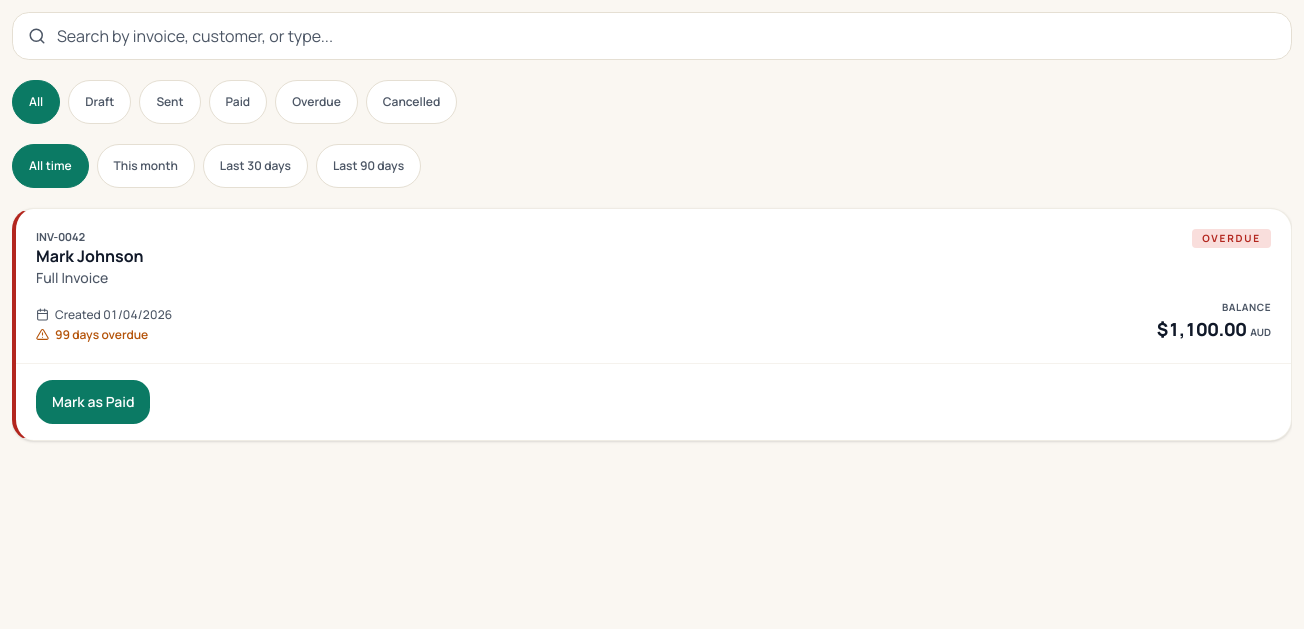
Test case: invoice action error recovery › shows returned payment errors and clears the table pending state
Click the button "Mark as Paid" at [93, 402], box [36,380,150,424]
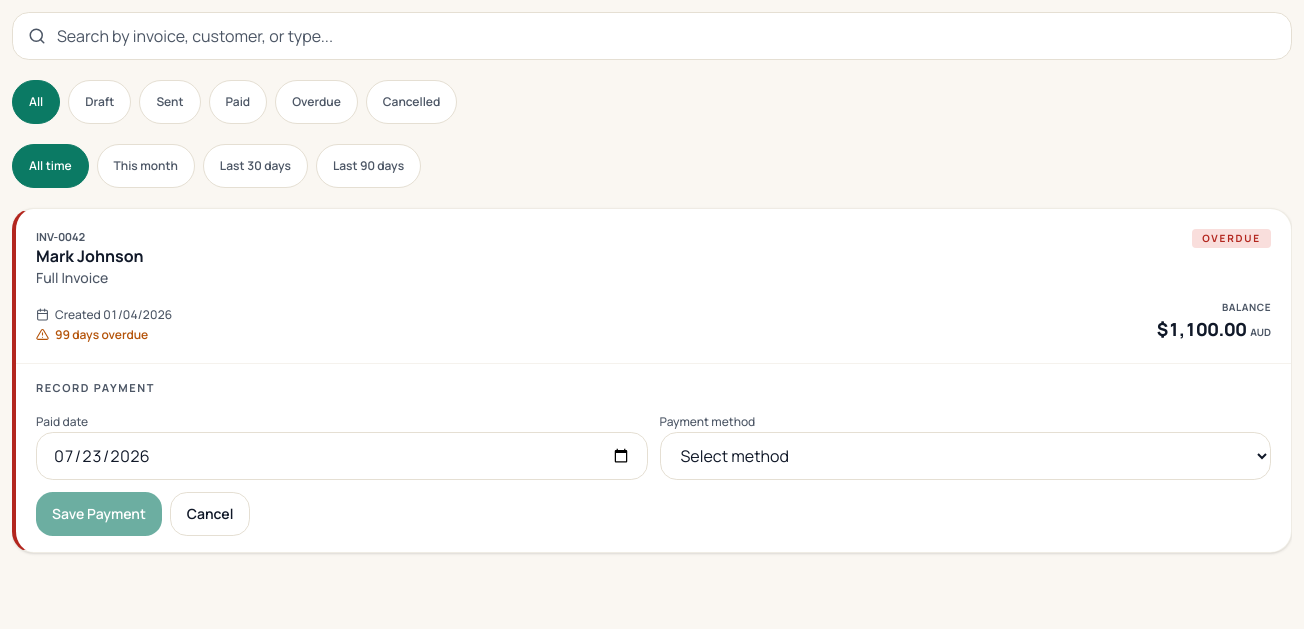
Select "Card" in the dropdown labelled "Payment method" at [965, 456], box [660,432,1271,480]
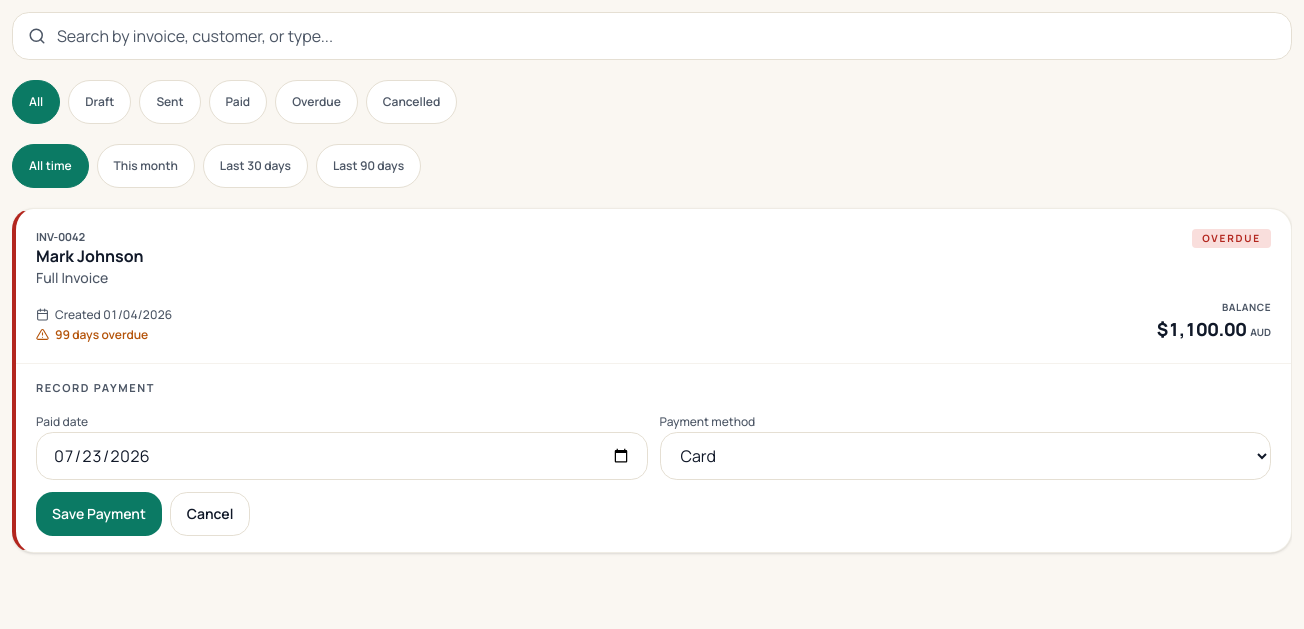
Click the button "Save Payment" at [99, 514], box [36,492,162,536]
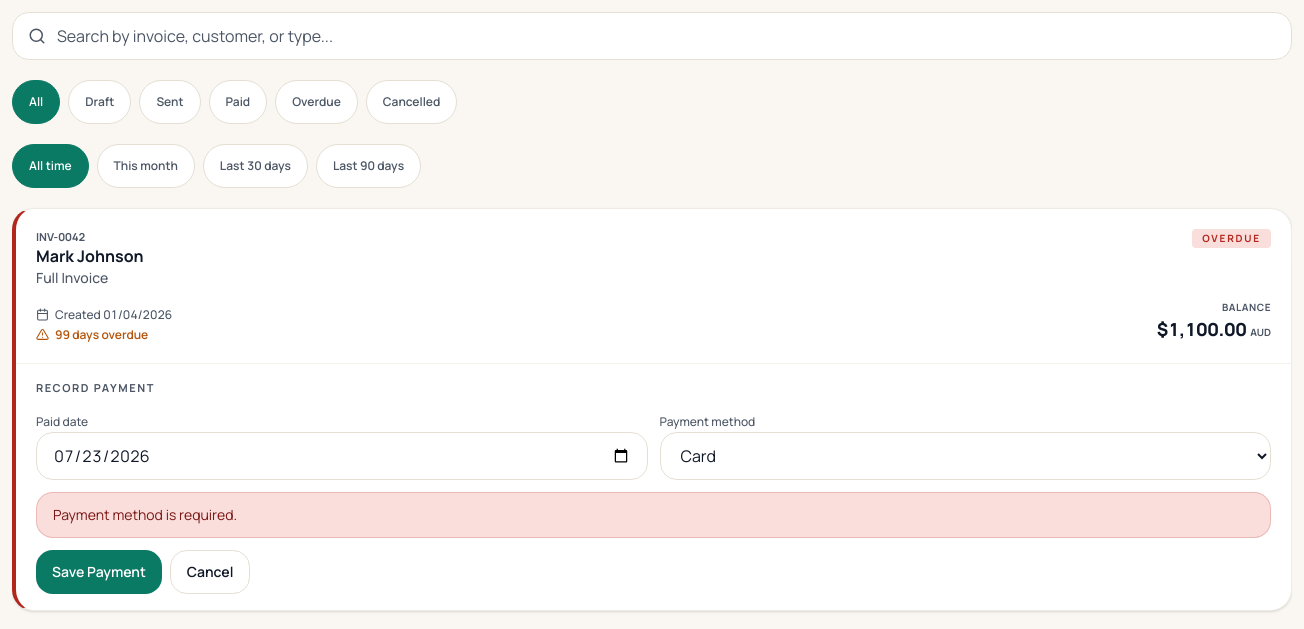
Now the button "Save Payment" is enabled, box [36,550,162,594]
Now the text "Payment method is required." is shown, box [36,492,1271,538]
